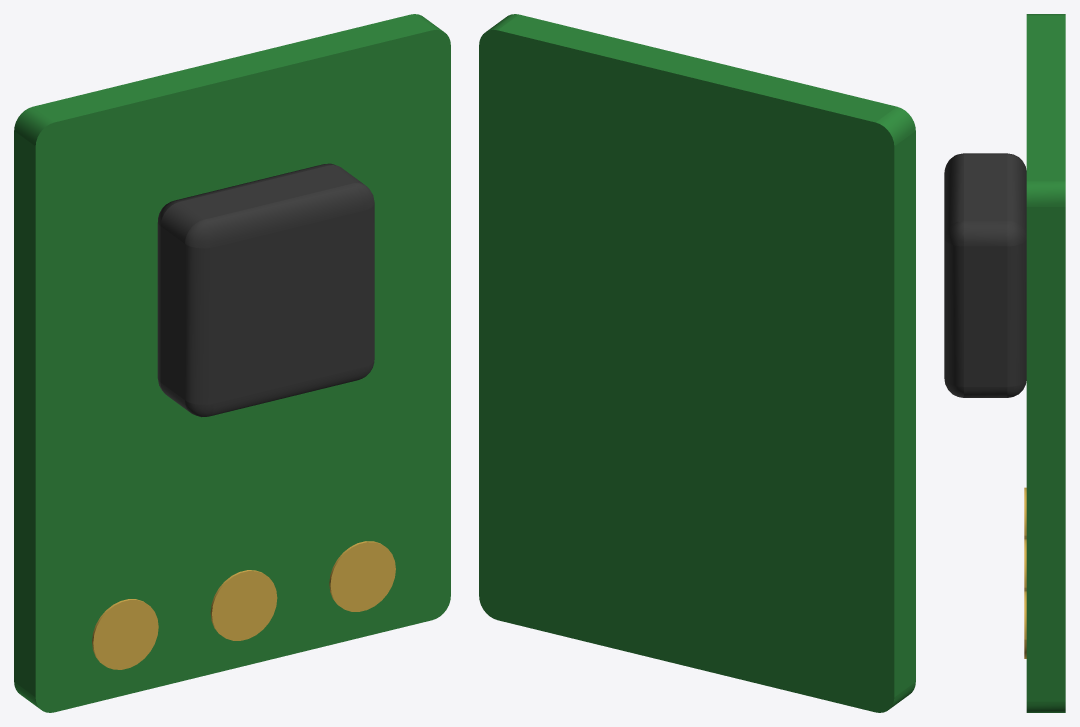
The model's file is pololu-2119-s7v7f5.glb.
The picture shows the model from 3 angles, left to right: view 1: azimuth 30°, elevation 25°; view 2: azimuth 150°, elevation 25°; view 3: azimuth 270°, elevation 25°; orthographic projection. The views are drawn at different scales.
Parts seen in each view (by area): view 1: board, inductor_2, pads_1_3, pads_1_1, pads_1_2; view 2: board; view 3: board, inductor_2.
Boxes of the visible parts, x1=… form: board: x1=14, y1=14, x2=450, y2=712; inductor_2: x1=157, y1=163, x2=374, y2=417; pads_1_3: x1=329, y1=541, x2=395, y2=611; pads_1_1: x1=92, y1=599, x2=158, y2=669; pads_1_2: x1=210, y1=570, x2=277, y2=640; board: x1=479, y1=14, x2=915, y2=712; board: x1=1026, y1=14, x2=1065, y2=712; inductor_2: x1=944, y1=153, x2=1026, y2=397.
Bounding box in the file's own units: 8.89 × 12.07 × 2.5.
